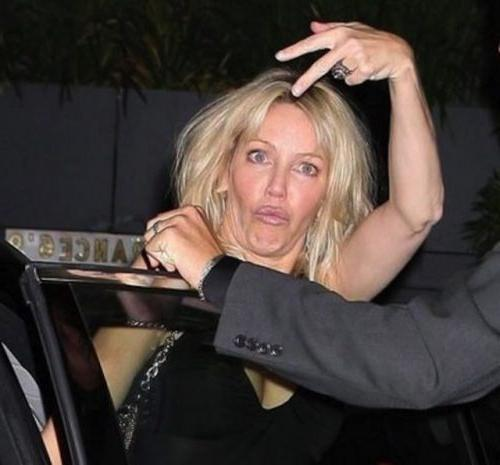Drunk: (236, 109, 326, 244)
